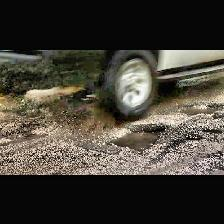pothole: (102, 124, 164, 153), (177, 100, 223, 119), (184, 132, 202, 140), (206, 168, 224, 174), (201, 128, 223, 132)
